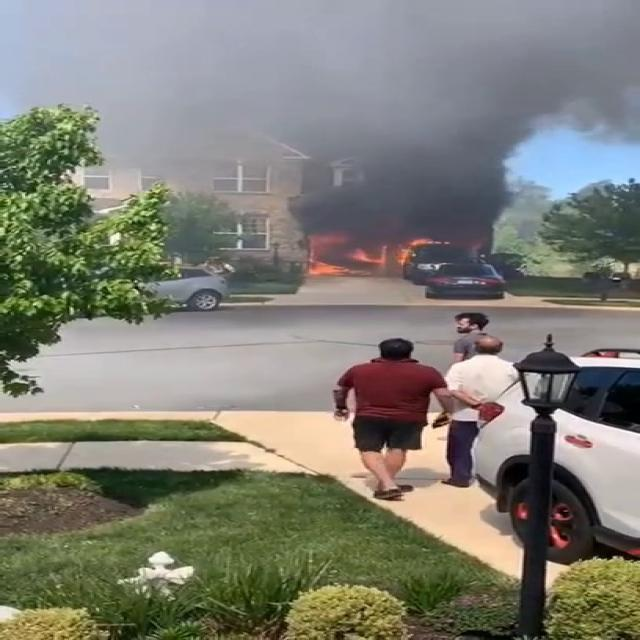Fire: (308, 239, 418, 274)
Smoke: (98, 0, 637, 244)
